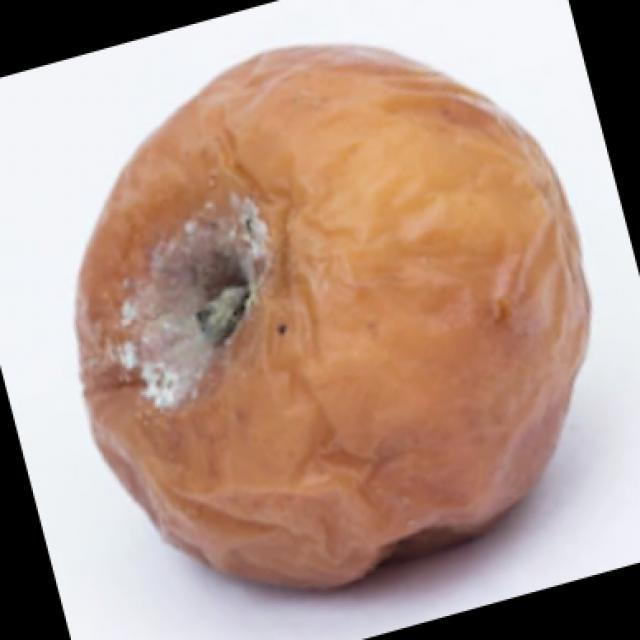Rotten: (89, 46, 594, 602)
